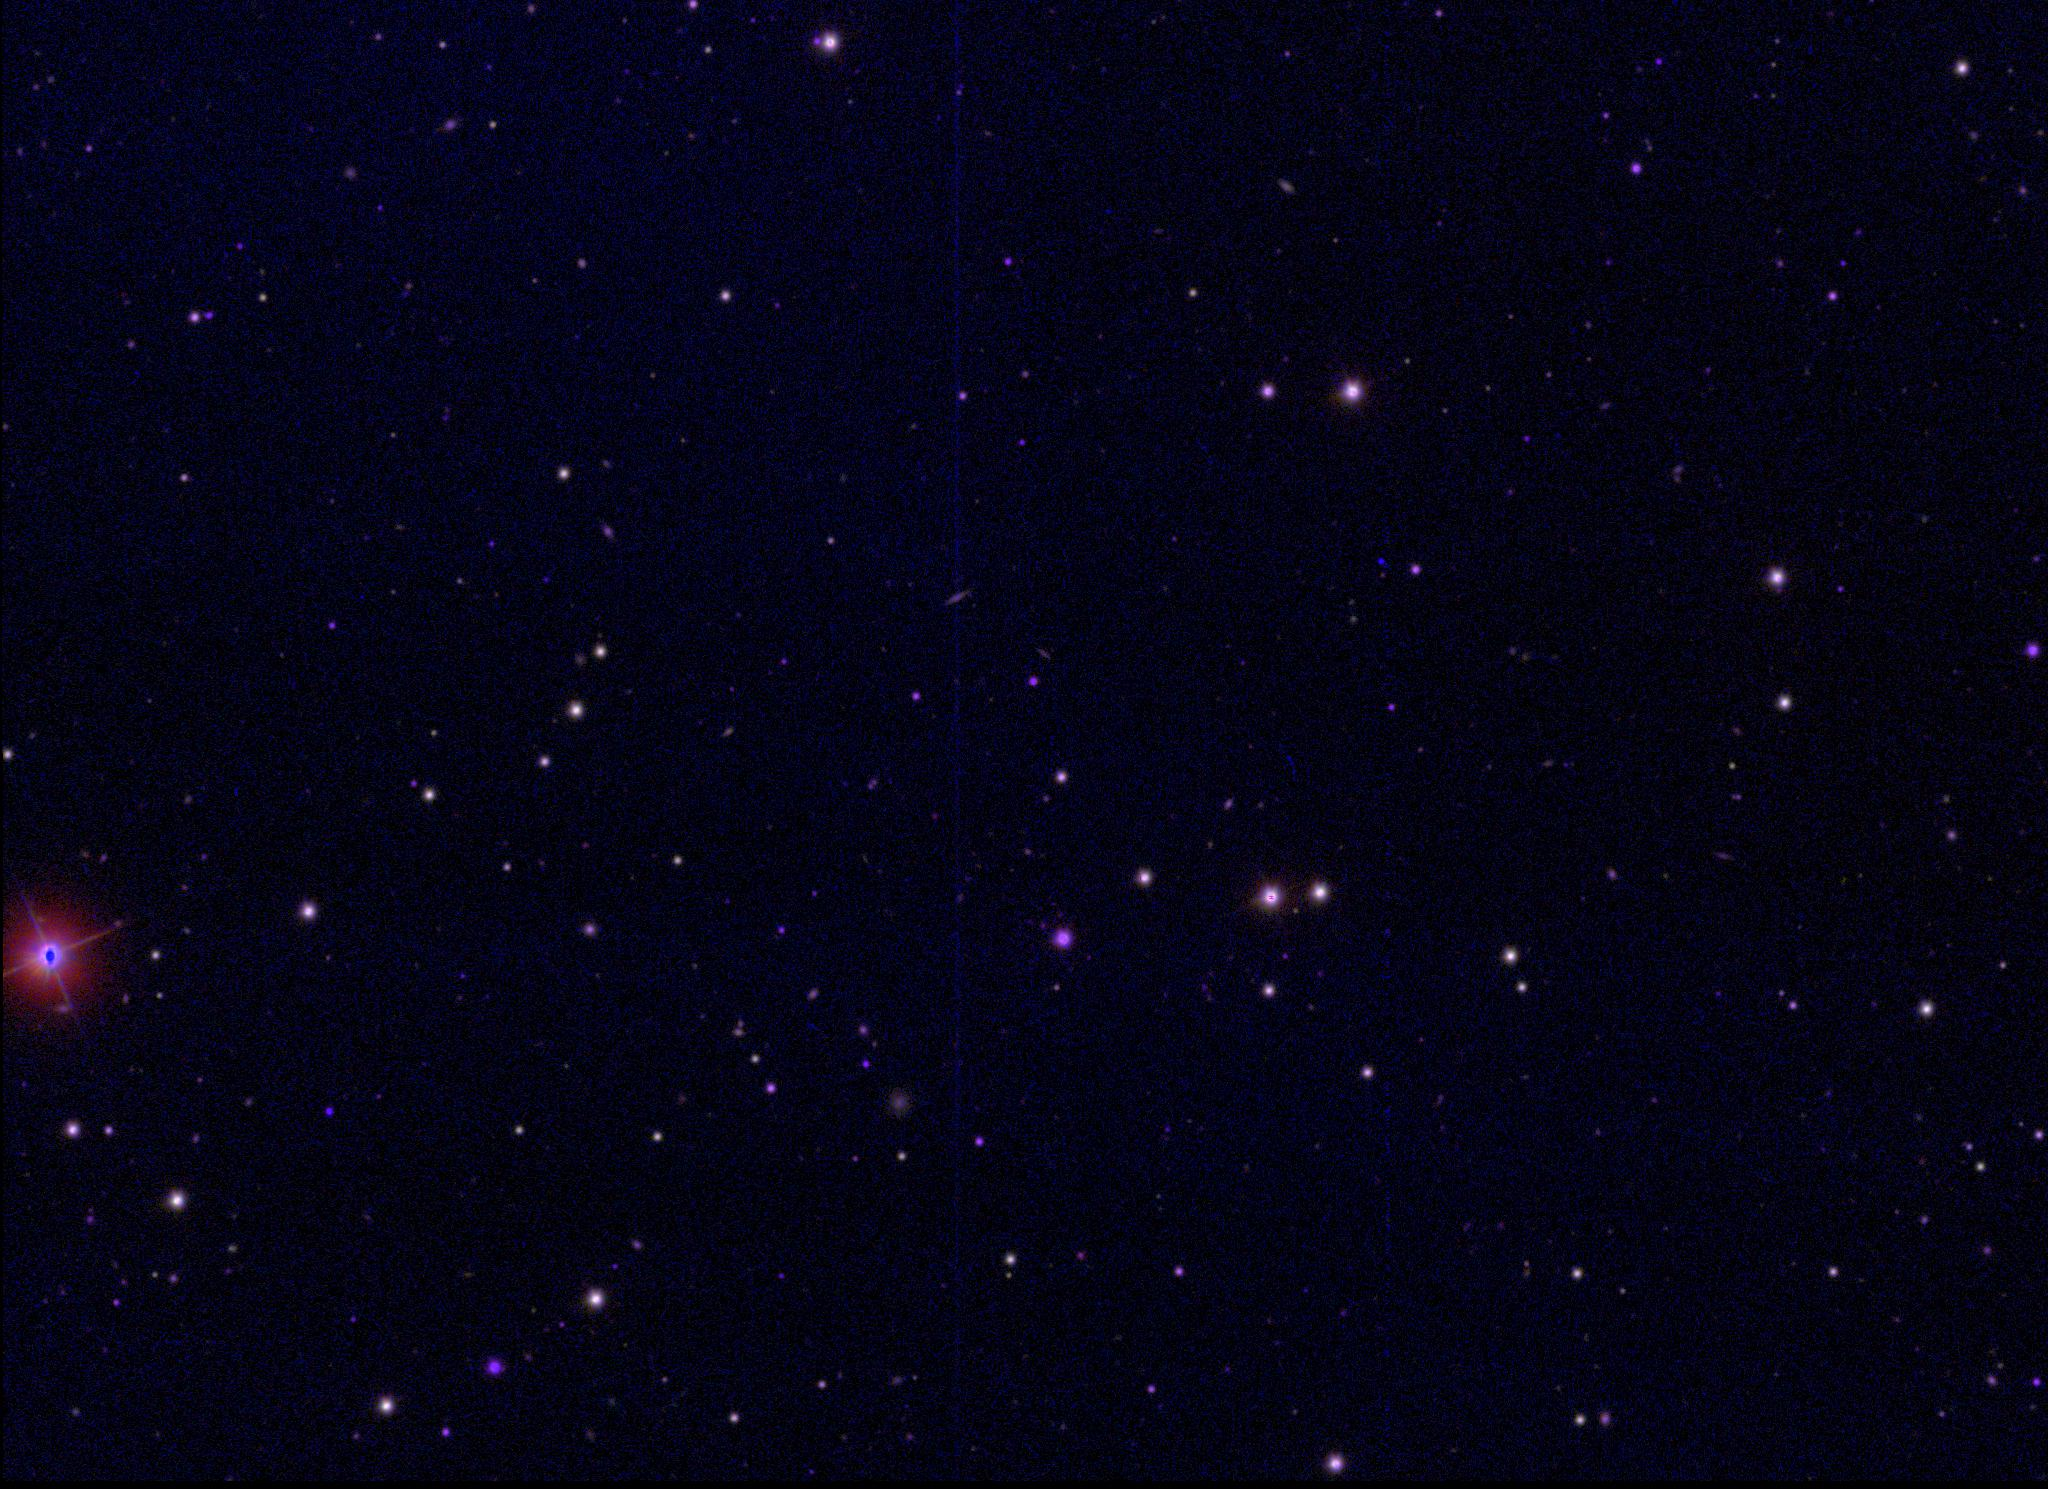L: (1375, 552, 1390, 566)
